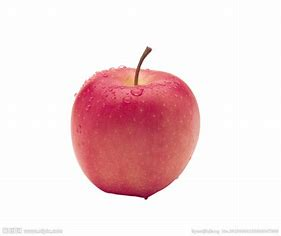fruit_apple: (68, 42, 203, 203)
